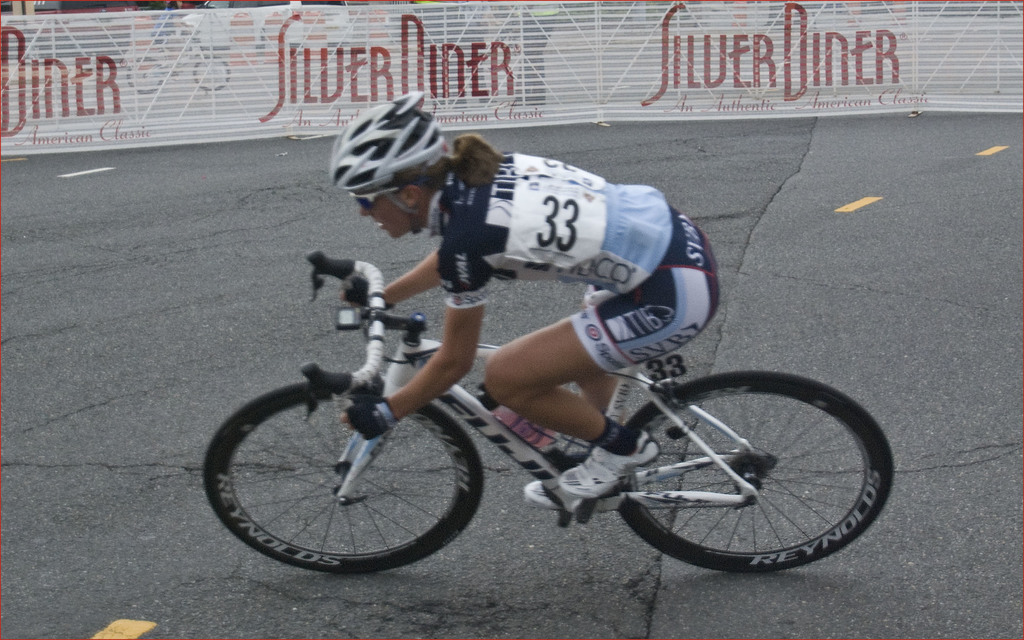Bike_toward: (105, 309, 1013, 640)
